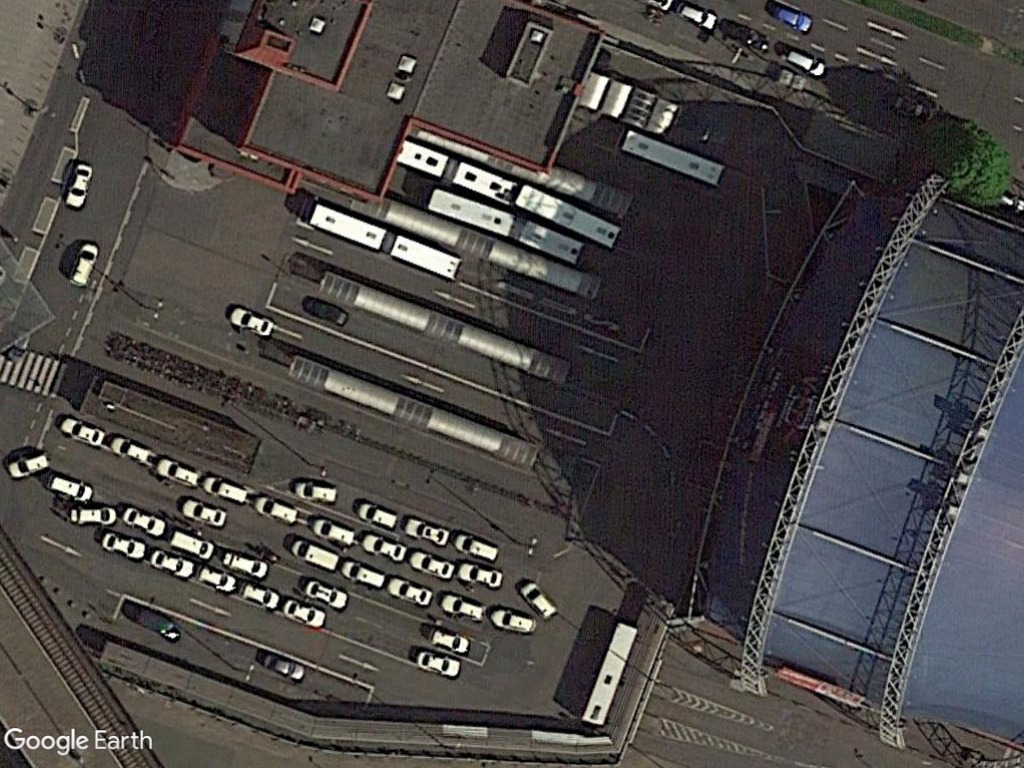bus: (513, 176, 625, 252), (618, 125, 733, 189), (580, 620, 641, 728), (420, 182, 519, 240), (303, 197, 391, 256), (506, 211, 585, 269), (386, 228, 465, 285)
car: (151, 442, 216, 494), (331, 553, 389, 601), (430, 590, 496, 631), (0, 443, 62, 486), (357, 520, 414, 566), (401, 539, 458, 584), (63, 151, 102, 215), (287, 534, 346, 576), (417, 622, 479, 661), (400, 511, 459, 549), (59, 497, 119, 534), (379, 572, 437, 610), (224, 300, 277, 341), (257, 646, 312, 685), (483, 601, 539, 639), (306, 513, 360, 552), (298, 574, 356, 610), (63, 238, 100, 294), (454, 554, 507, 593), (94, 522, 149, 559), (517, 578, 561, 624), (275, 592, 331, 628), (143, 545, 197, 581), (187, 564, 244, 598), (448, 531, 505, 565), (199, 470, 255, 504), (413, 644, 464, 681), (232, 576, 283, 612), (53, 415, 108, 448), (252, 489, 301, 526), (44, 470, 97, 504), (777, 45, 829, 79), (104, 434, 159, 466), (179, 495, 228, 530), (356, 498, 404, 533), (293, 479, 343, 508)
